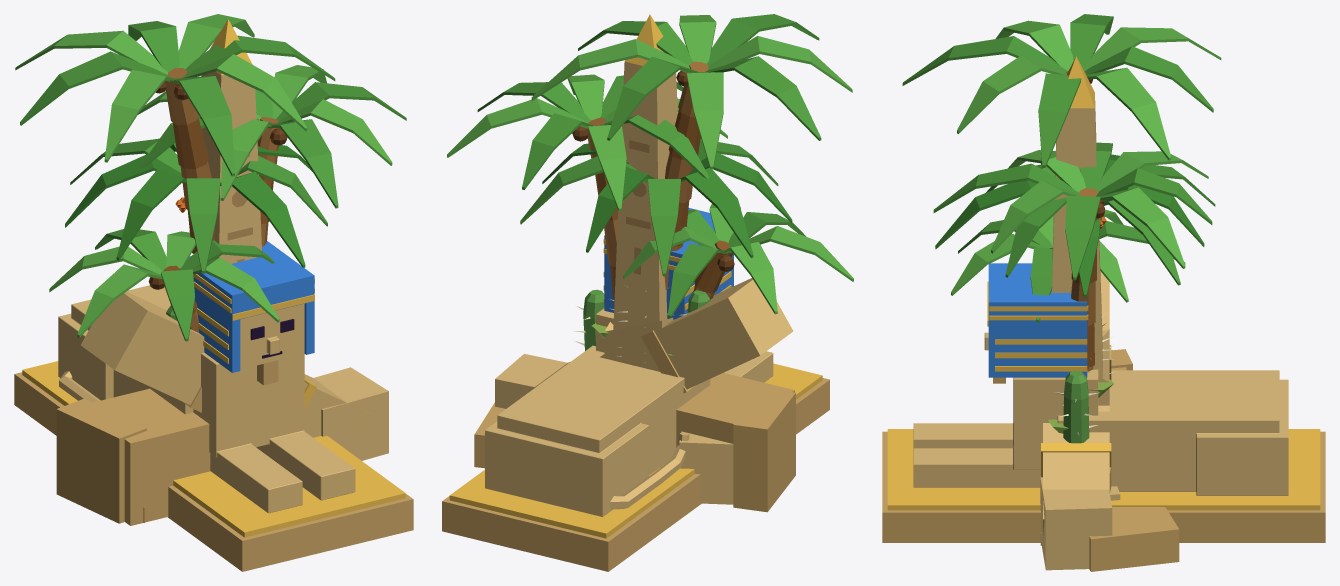
The model's file is w4_decorations.fbx.
3 views of the same model, side by side, from view 1: azimuth 30°, elevation 25°; view 2: azimuth 150°, elevation 25°; view 3: azimuth 270°, elevation 25° (orthographic). The views are drawn at different scales.
Parts seen in each view (by area): view 1: Sphinx.Stone, Sphinx.Plinth, PalmTwin.FrondsLight, PillarLeaning.Stone, Sphinx.Gold, PillarLeaning.Band, PalmTall.FrondsLight, PalmTall.Fronds, PalmTwin.Fronds, PillarDrums.Band, Sphinx.Headdress, DatePalm.Fronds (+8 smaller); view 2: Sphinx.Stone, Sphinx.Plinth, PalmTwin.FrondsLight, PillarLeaning.Stone, Obelisk.Stone, PalmTwin.Fronds, PalmTall.FrondsLight, PalmTall.Fronds, PillarDrums.Band, Sphinx.Gold, DatePalm.Fronds, PillarStump.Stone (+13 smaller); view 3: Sphinx.Stone, Sphinx.Gold, Sphinx.Plinth, PalmTwin.FrondsLight, PalmTwin.Fronds, PalmTall.FrondsLight, PalmTall.Fronds, Sphinx.Headdress, PillarDrums.Stone, PillarStump.Band, Obelisk.Stone, PillarLeaning.Stone (+7 smaller).
Part boxes in pixels (bbox=[...]): Sphinx.Stone: bbox=[58, 285, 355, 513]; Sphinx.Plinth: bbox=[14, 360, 413, 571]; PalmTwin.FrondsLight: bbox=[49, 65, 392, 337]; PillarLeaning.Stone: bbox=[81, 292, 372, 446]; Sphinx.Gold: bbox=[22, 274, 405, 537]; PillarLeaning.Band: bbox=[93, 387, 210, 525]; PalmTall.FrondsLight: bbox=[15, 14, 307, 162]; PalmTall.Fronds: bbox=[20, 21, 335, 176]; PalmTwin.Fronds: bbox=[95, 82, 406, 341]; PillarDrums.Band: bbox=[56, 399, 146, 523]; Sphinx.Headdress: bbox=[188, 241, 314, 372]; DatePalm.Fronds: bbox=[65, 142, 312, 267]; Sphinx.Stone: bbox=[485, 308, 773, 516]; Sphinx.Plinth: bbox=[442, 378, 829, 571]; PalmTwin.FrondsLight: bbox=[447, 74, 853, 314]; PillarLeaning.Stone: bbox=[528, 278, 793, 391]; Obelisk.Stone: bbox=[613, 61, 677, 329]; PalmTwin.Fronds: bbox=[477, 75, 806, 318]; PalmTall.FrondsLight: bbox=[531, 15, 852, 169]; PalmTall.Fronds: bbox=[578, 14, 821, 140]; PillarDrums.Band: bbox=[733, 388, 795, 512]; Sphinx.Gold: bbox=[449, 239, 822, 538]; DatePalm.Fronds: bbox=[542, 137, 792, 257]; PillarStump.Stone: bbox=[604, 317, 733, 504]; Sphinx.Stone: bbox=[913, 332, 1288, 495]; Sphinx.Gold: bbox=[887, 281, 1320, 510]; Sphinx.Plinth: bbox=[882, 377, 1325, 542]; PalmTwin.FrondsLight: bbox=[951, 150, 1208, 302]; PalmTwin.Fronds: bbox=[933, 142, 1212, 322]; PalmTall.FrondsLight: bbox=[957, 20, 1221, 160]; PalmTall.Fronds: bbox=[902, 14, 1213, 167]; Sphinx.Headdress: bbox=[988, 263, 1087, 377]; PillarDrums.Stone: bbox=[1040, 477, 1112, 570]; PillarStump.Band: bbox=[1089, 507, 1179, 571]; Obelisk.Stone: bbox=[1052, 101, 1102, 378]; PillarLeaning.Stone: bbox=[1043, 271, 1109, 535].
Size of the model in its own units: 22.42 by 27.05 by 24.
